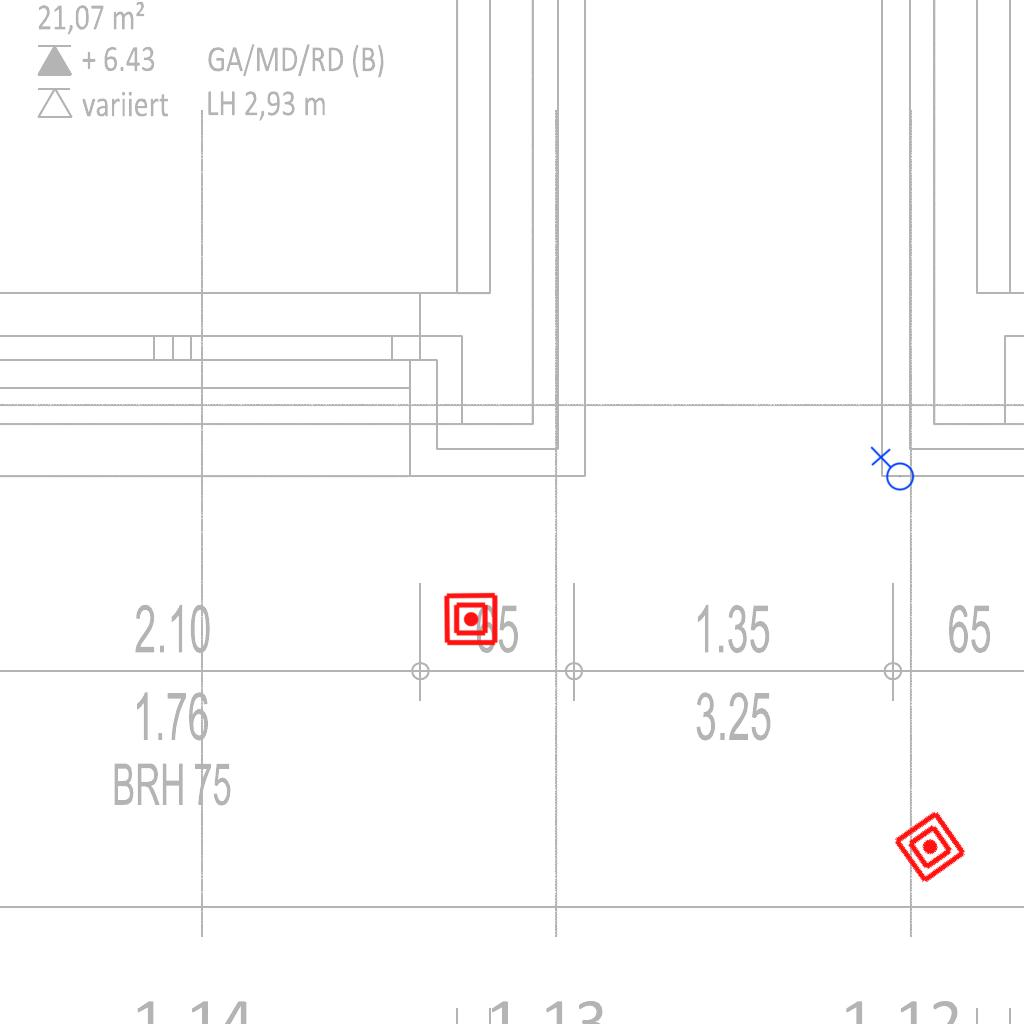Elektroanschluss_allgemein_230V_Geraeteanschlussdose_230V: (868, 446, 915, 495)
NAM-Nichtautomatischer_Melder: (891, 808, 969, 886), (443, 591, 499, 647)
